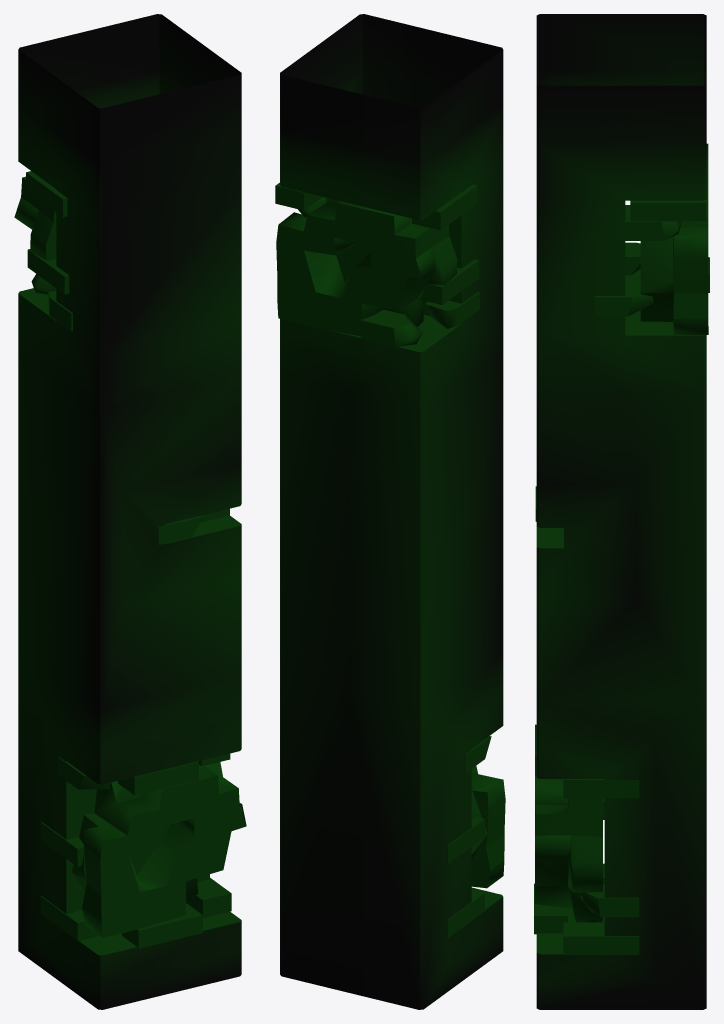
The model's file is DBK_Brick_Pillar_C.fbx.
3 views of the same model, side by side, from view 1: azimuth 30°, elevation 25°; view 2: azimuth 150°, elevation 25°; view 3: azimuth 270°, elevation 25° (orthographic). The views are drawn at different scales.
Parts seen in each view (by area): view 1: DBK_Brick_Pillar_C; view 2: DBK_Brick_Pillar_C; view 3: DBK_Brick_Pillar_C.
Part boxes in pixels (left/top/right/bottom): DBK_Brick_Pillar_C: left=14, top=14, right=246, bottom=1009; DBK_Brick_Pillar_C: left=275, top=14, right=505, bottom=1009; DBK_Brick_Pillar_C: left=534, top=14, right=709, bottom=1009.
Size of the model in its own units: 53.65 by 300 by 51.72.
